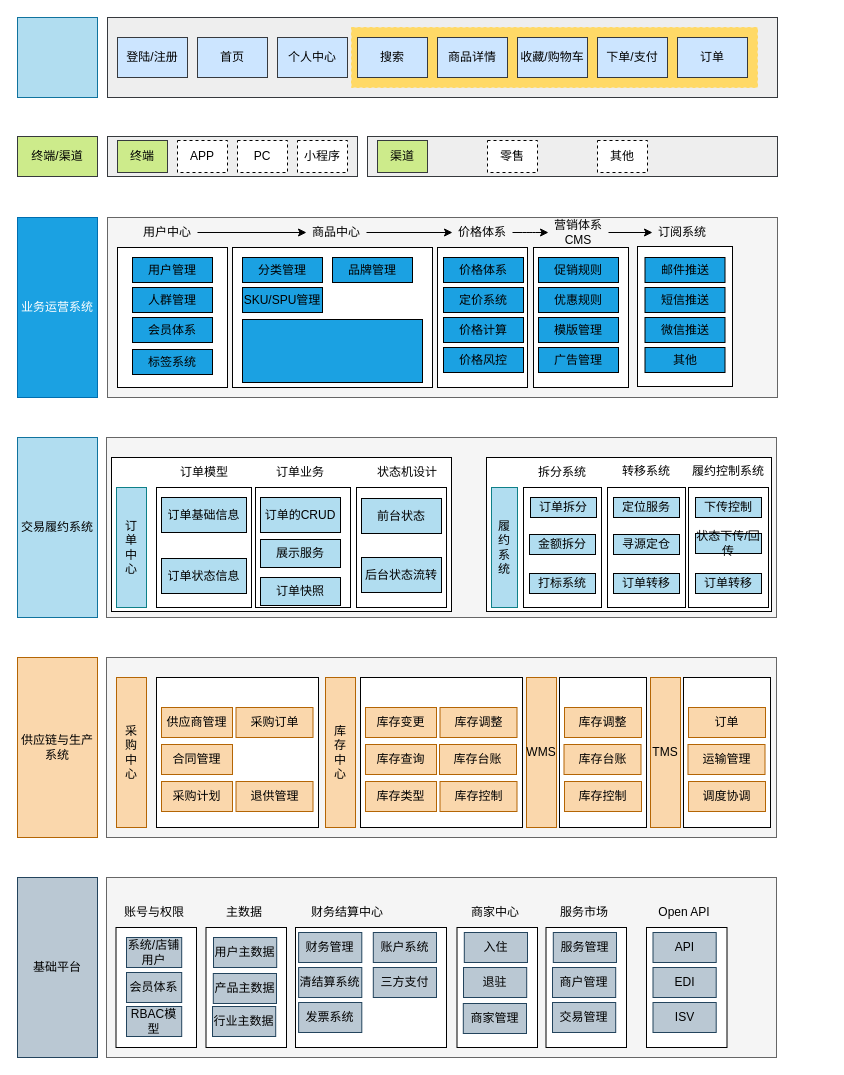
The diagram is 844 pixels wide and 1075 high, and some of its shapes have lost their labels. The centre of each missing label's shape, as x and y in pixels:
"商品管理：创建、上下架、属性管理、商品审核" goes at [332,350].
"用户端" goes at [57,57].
